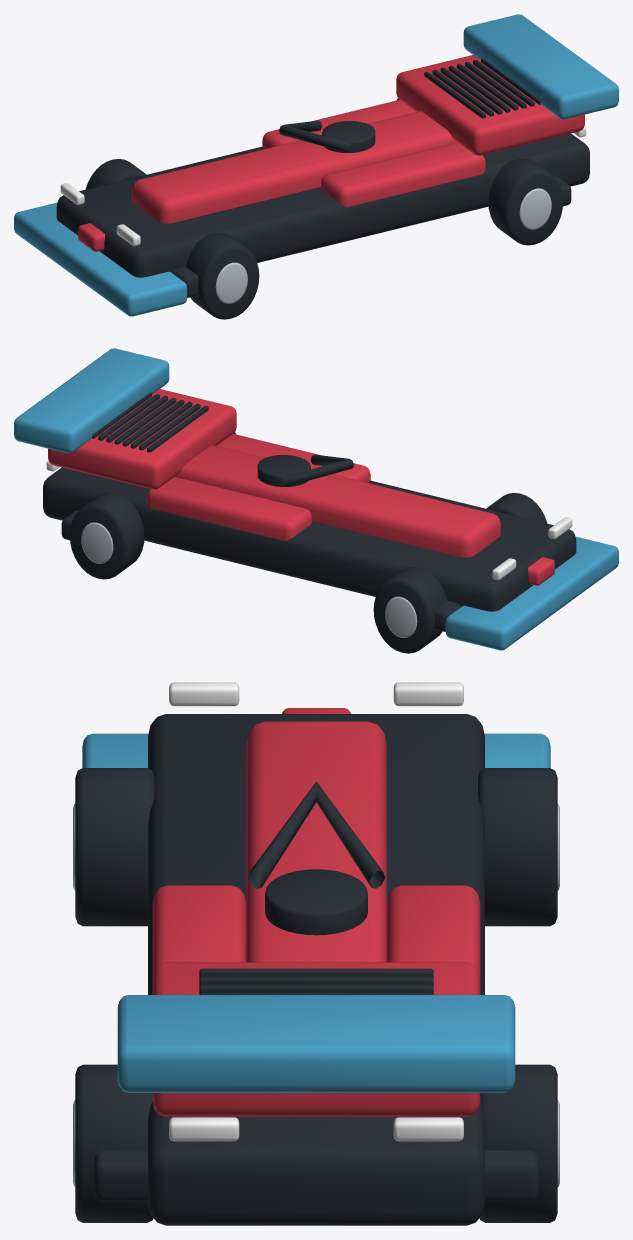
File: brick-formula-car.glb
The picture shows the model from 3 angles, top to bottom: view 1: azimuth 30°, elevation 25°; view 2: azimuth 150°, elevation 25°; view 3: azimuth 270°, elevation 25°; orthographic projection. The views are drawn at different scales.
Visible parts, largest first — view 1: brick-formula-car; view 2: brick-formula-car; view 3: brick-formula-car.
Boxes of the visible parts, box(x1,y1,x2,y2) form: brick-formula-car: box(14, 14, 618, 319); brick-formula-car: box(14, 348, 618, 653); brick-formula-car: box(73, 682, 559, 1225).
Bounding box in the file's own units: 0.38 × 0.095 × 0.16.
